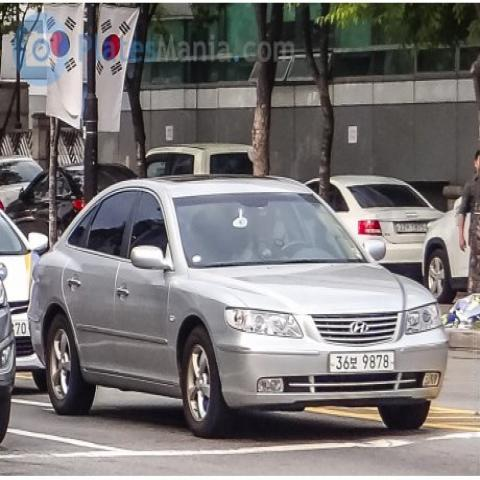LP: (323, 343, 401, 382)
